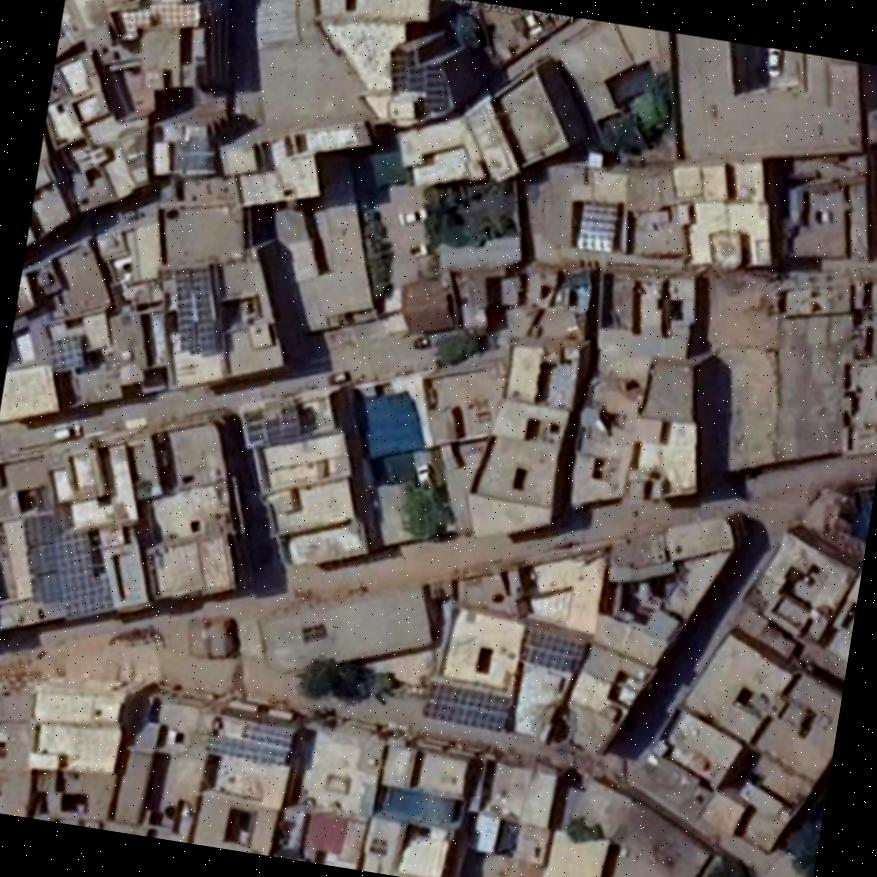Solarpanel: (204, 713, 293, 767), (421, 680, 512, 732), (56, 530, 111, 615), (173, 263, 218, 353), (241, 396, 304, 446), (519, 627, 586, 673), (577, 199, 618, 249), (388, 45, 422, 91), (48, 332, 85, 374), (425, 61, 444, 107)
